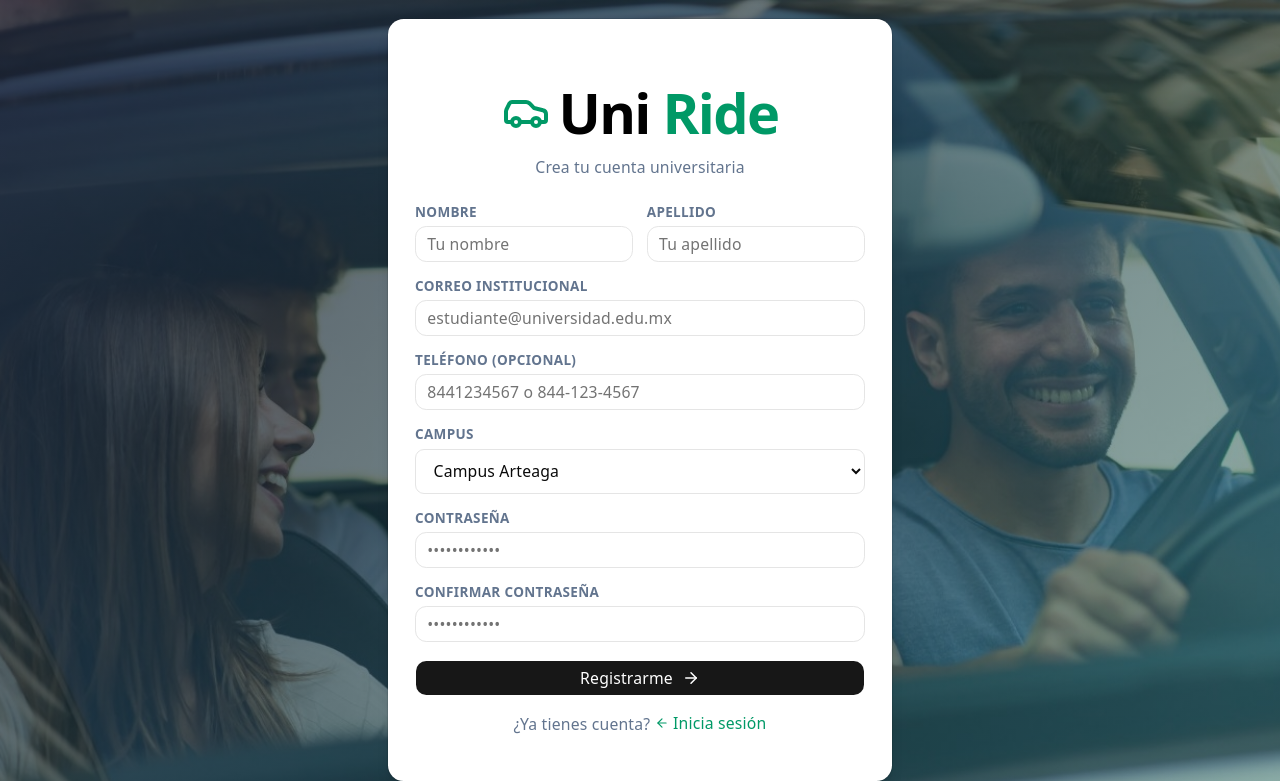
Test: Registro de usuarios › muestra el error del servidor y no navega al login
Step 1. Type "Ana" into the field labelled "NOMBRE" → (524, 244), box [415,226,633,262]
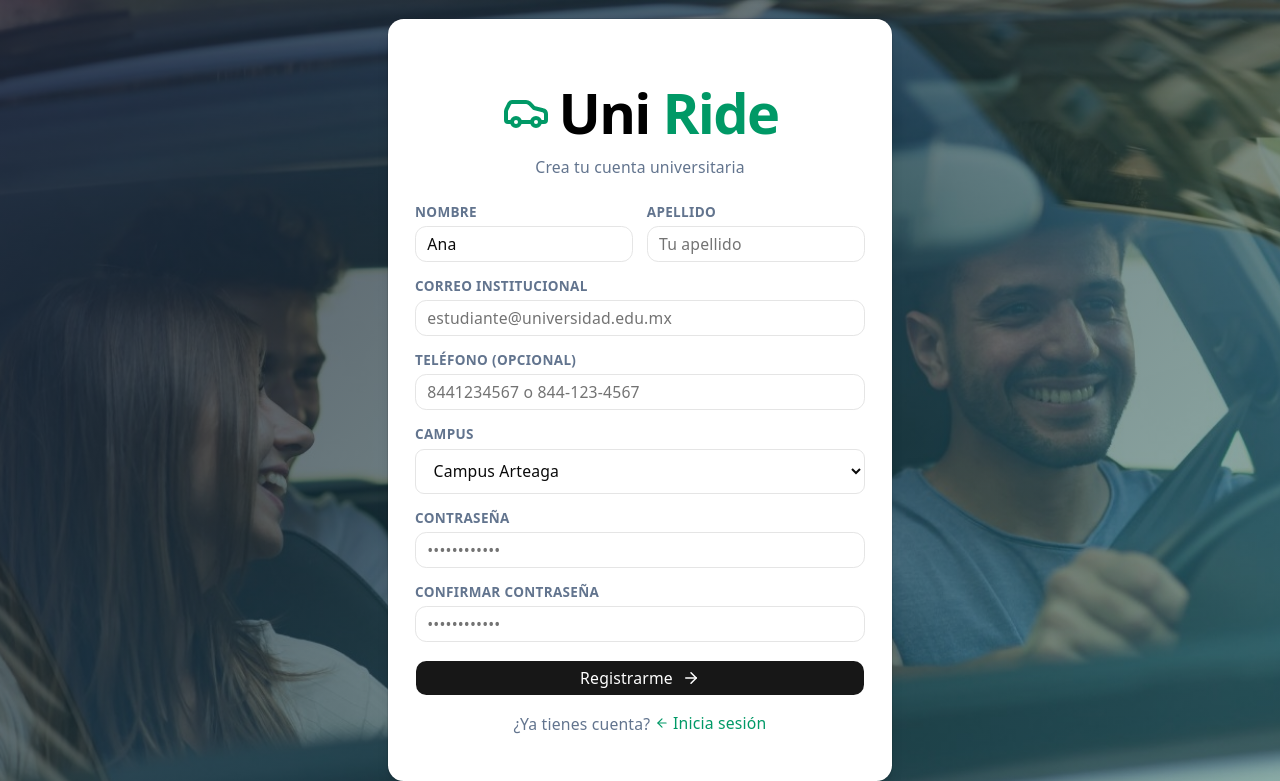
Step 2. Type "Lopez" into the field labelled "APELLIDO" → (756, 244), box [647,226,865,262]
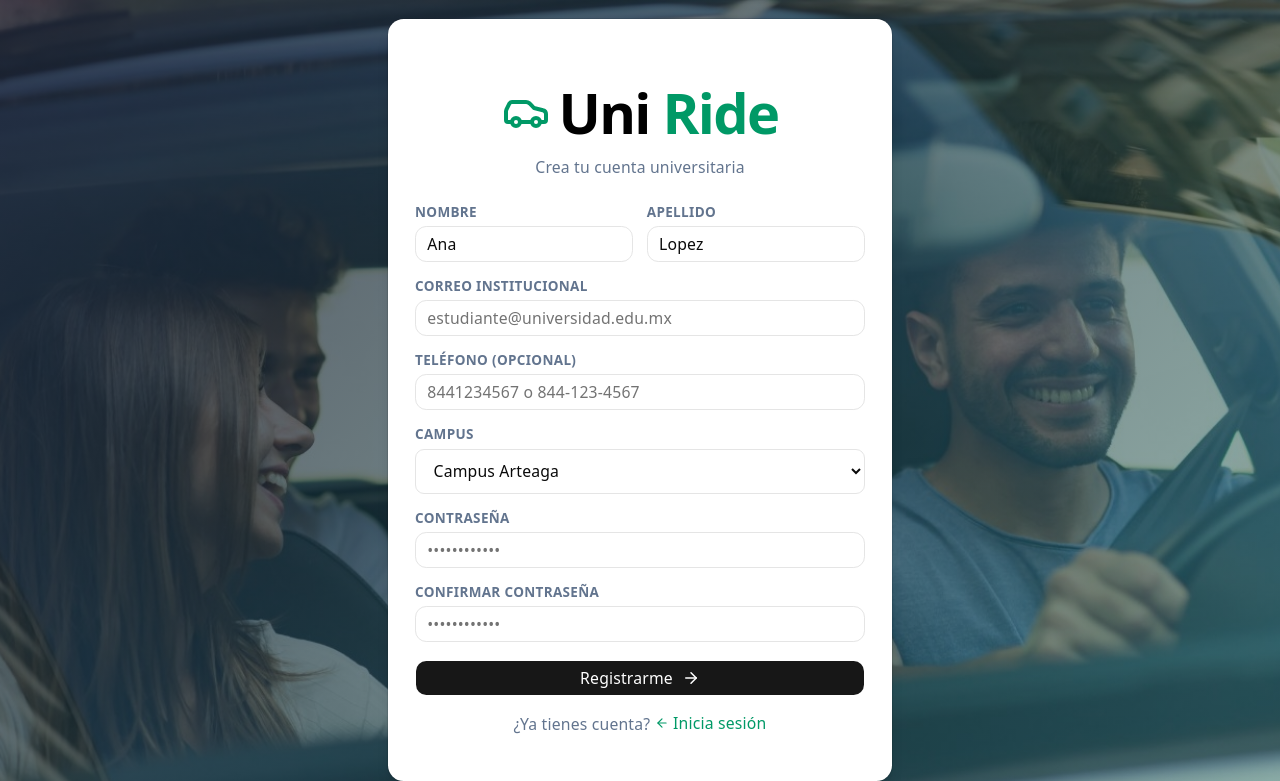
Step 3. Type "ana@universidad.edu.mx" into the field labelled "CORREO INSTITUCIONAL" → (640, 318), box [415,300,865,336]
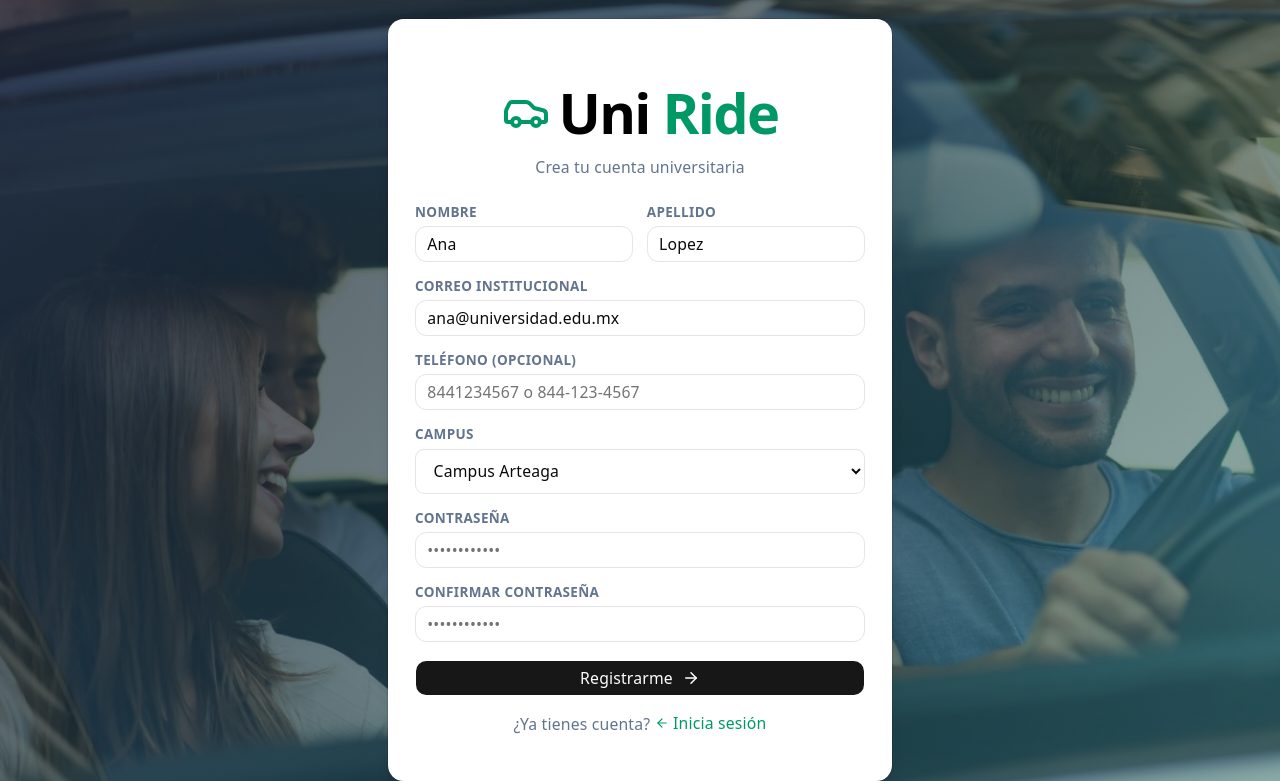
Step 4. Type "Clave123!" into the password field labelled "CONTRASEÑA" → (640, 550), box [415,532,865,568]
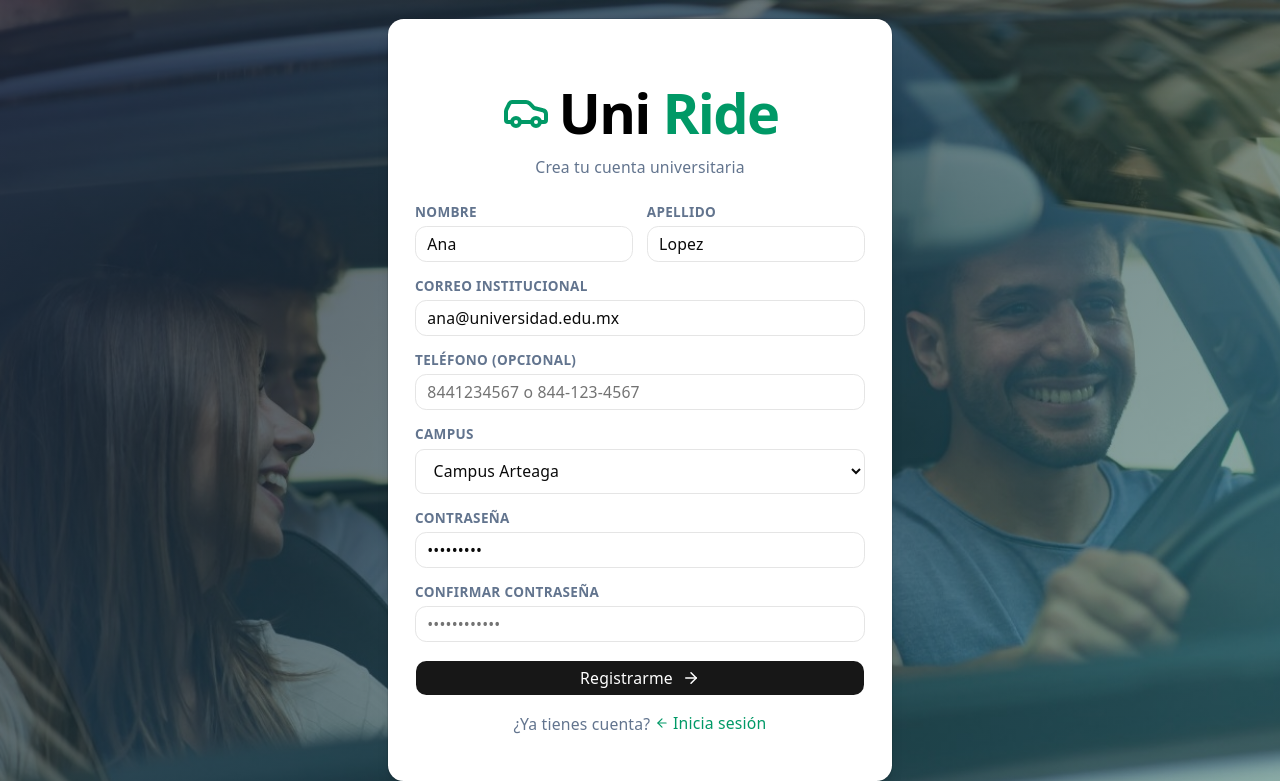
Step 5. Type "Clave123!" into the password field labelled "CONFIRMAR CONTRASEÑA" → (640, 624), box [415,606,865,642]
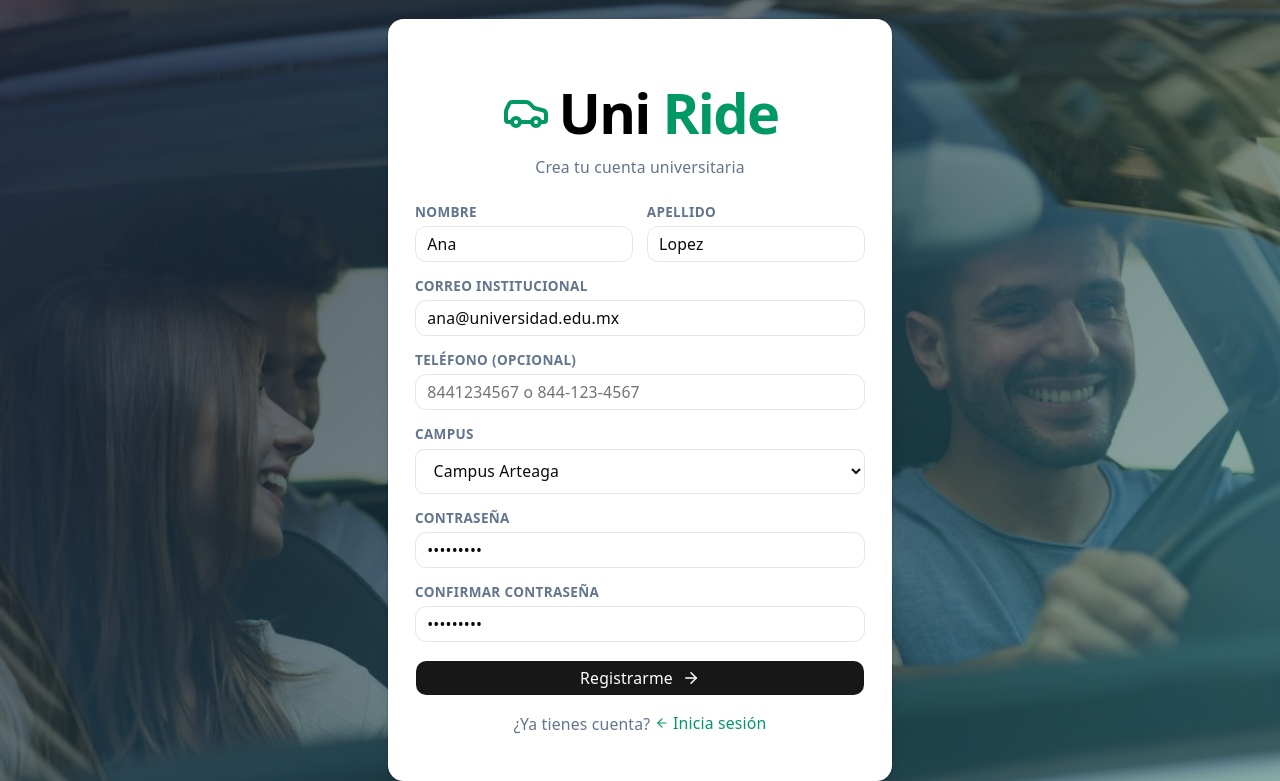
Step 6. Submit the form named "Registrarme", box [415,206,865,712]
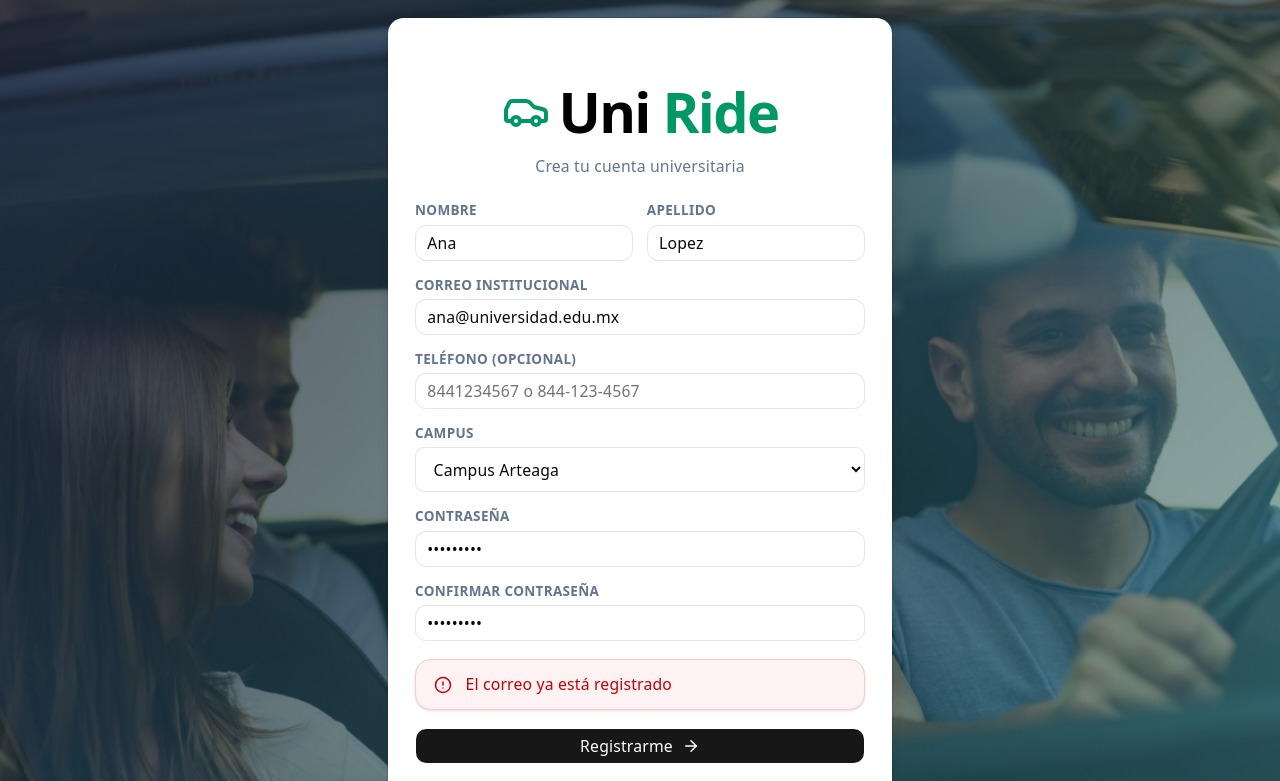
Now the text "El correo ya está registrado" is shown, box [466,673,672,696]
